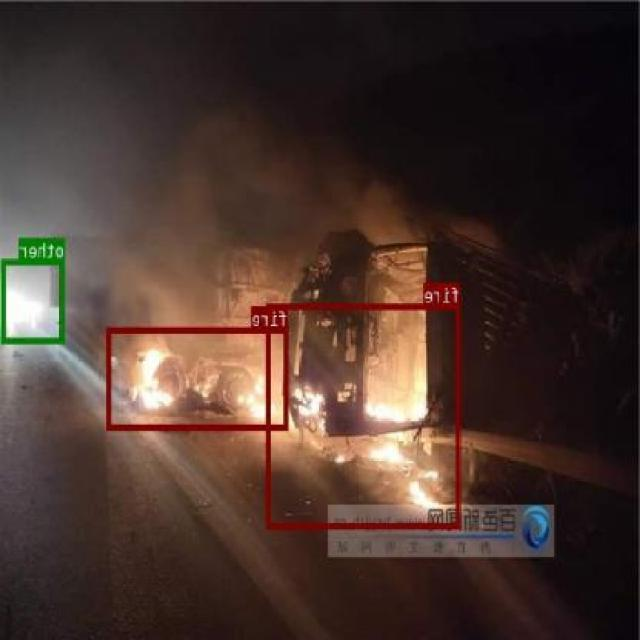Fire: (267, 302, 461, 528), (108, 326, 290, 428)
